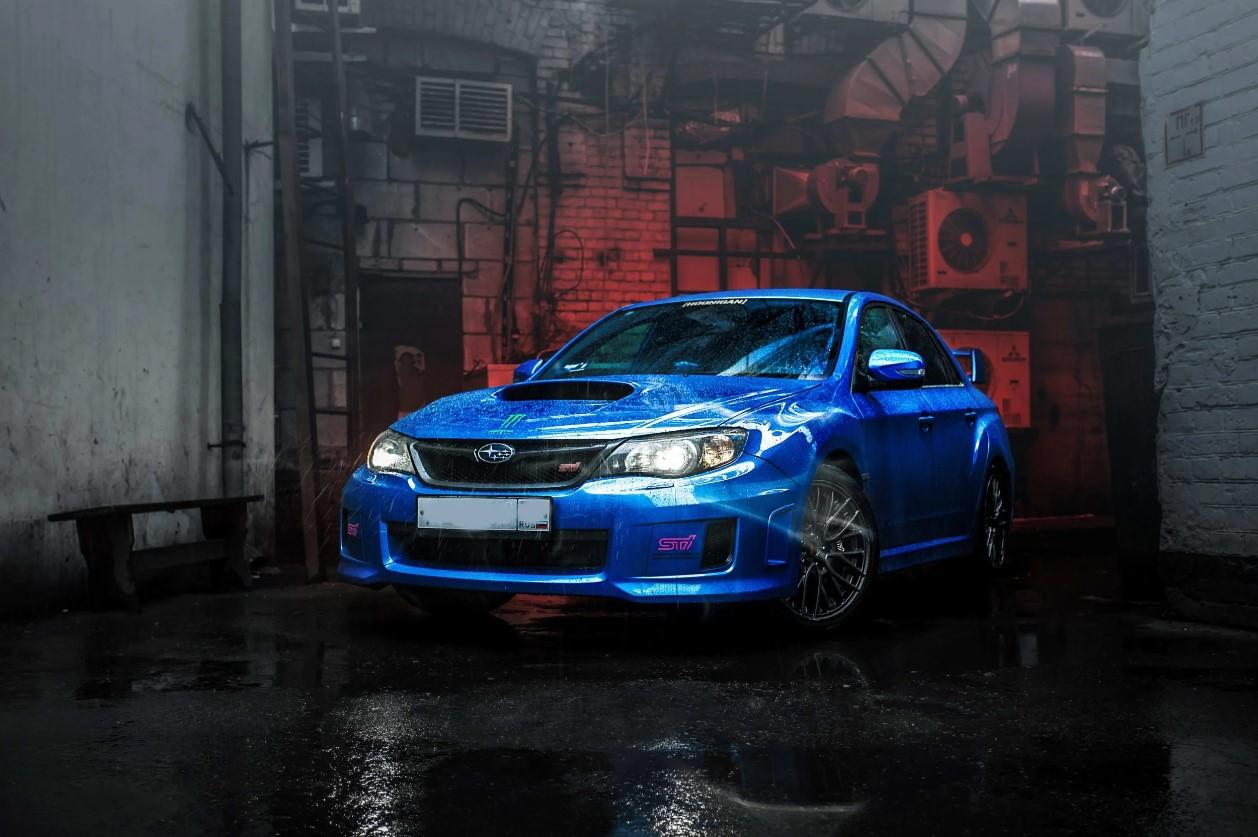subaru: (472, 435, 527, 470)
